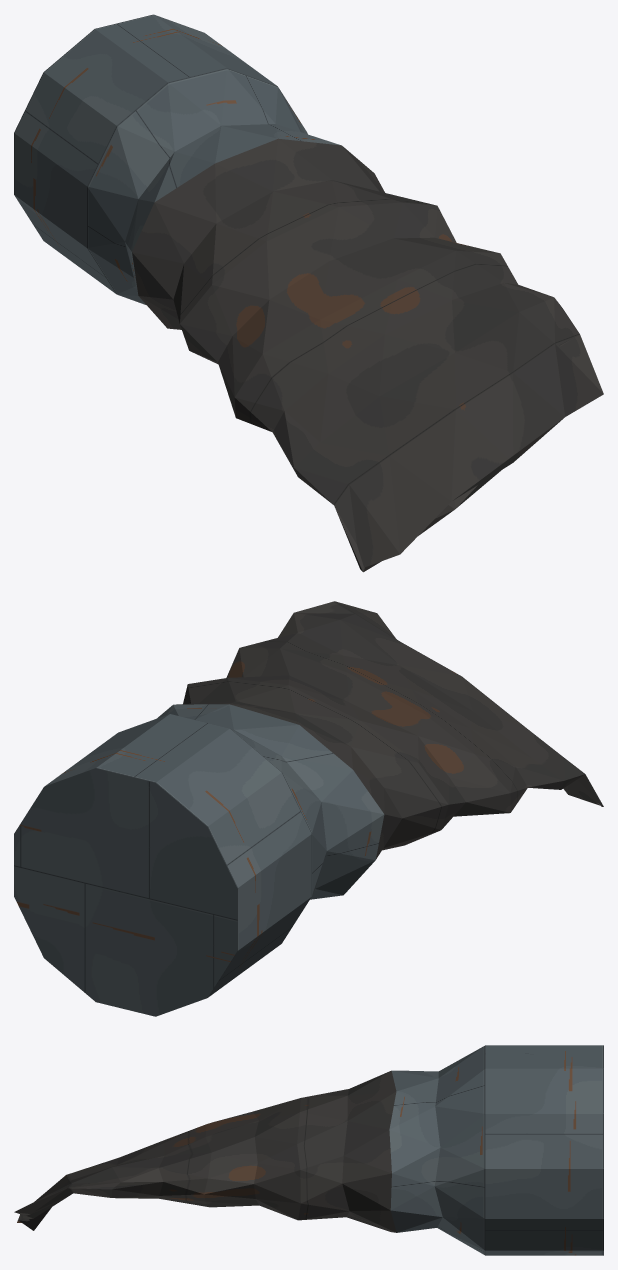
File: pipe_crushed_end_v1.fbx
3 views of the same model, one above another, from view 1: azimuth 30°, elevation 25°; view 2: azimuth 150°, elevation 25°; view 3: azimuth 270°, elevation 25° (orthographic). The views are drawn at different scales.
Visible parts, largest first — view 1: pipe_crushed_end_v1_lod0; view 2: pipe_crushed_end_v1_lod0; view 3: pipe_crushed_end_v1_lod0.
Boxes of the visible parts, left/top/right/bottom form: pipe_crushed_end_v1_lod0: left=14, top=14, right=603, bottom=572; pipe_crushed_end_v1_lod0: left=14, top=601, right=603, bottom=1016; pipe_crushed_end_v1_lod0: left=14, top=1045, right=603, bottom=1255.
Size of what is drawn, in the model's own units: 216 by 198 by 497.
